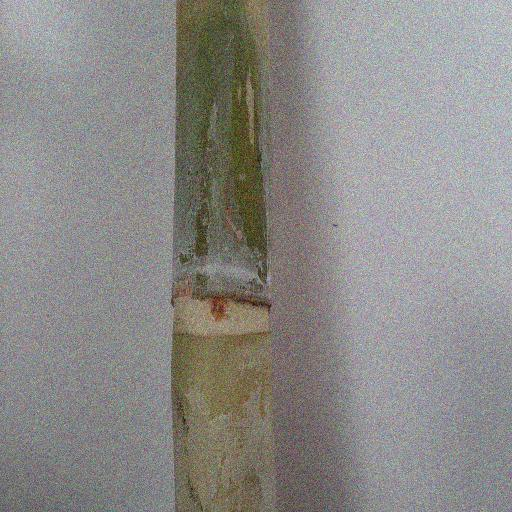Damage_Bud: (208, 295, 229, 324)
